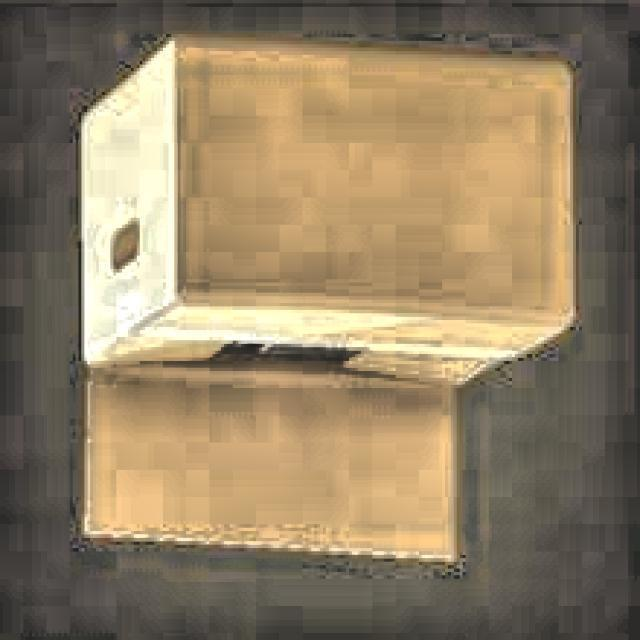cardboard: (78, 34, 579, 569)
